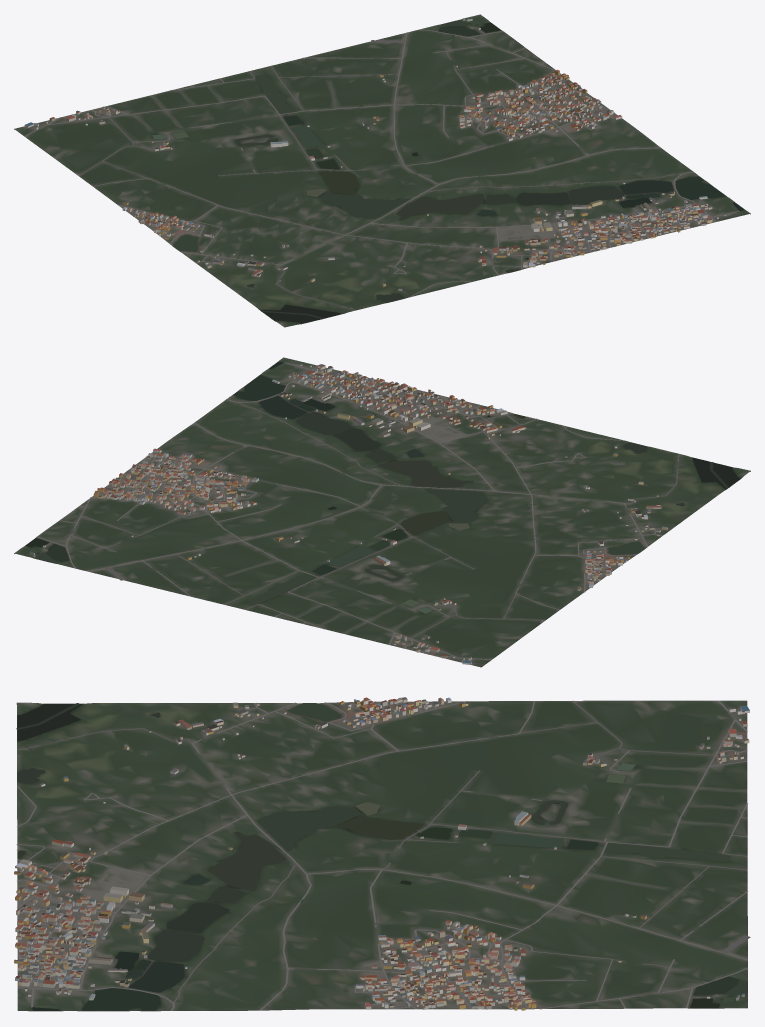
3 renders of one model, top to bottom at view 1: azimuth 30°, elevation 25°; view 2: azimuth 150°, elevation 25°; view 3: azimuth 270°, elevation 25°, orthographic. The views are drawn at different scales.
Visible parts, largest first — view 1: ground, buildings, water, roads; view 2: ground, buildings, water, roads; view 3: ground, buildings, water, roads.
Part boxes in pixels (x1,y1,x2,y2): ground: [14, 14, 750, 327]; buildings: [24, 18, 725, 290]; water: [152, 20, 744, 323]; roads: [24, 29, 739, 310]; ground: [14, 357, 750, 667]; buildings: [29, 364, 667, 664]; water: [25, 361, 740, 613]; roads: [37, 362, 680, 661]; ground: [16, 700, 747, 1011]; buildings: [14, 697, 749, 1010]; water: [16, 703, 747, 1010]; roads: [16, 700, 750, 1010].
Bounding box in the file's own units: 1412 × 19.03 × 1415.
